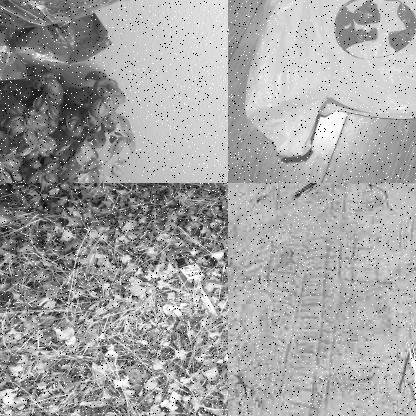glass: (172, 249, 222, 322)
plastic: (242, 0, 415, 182), (0, 0, 131, 79), (406, 349, 415, 414)
